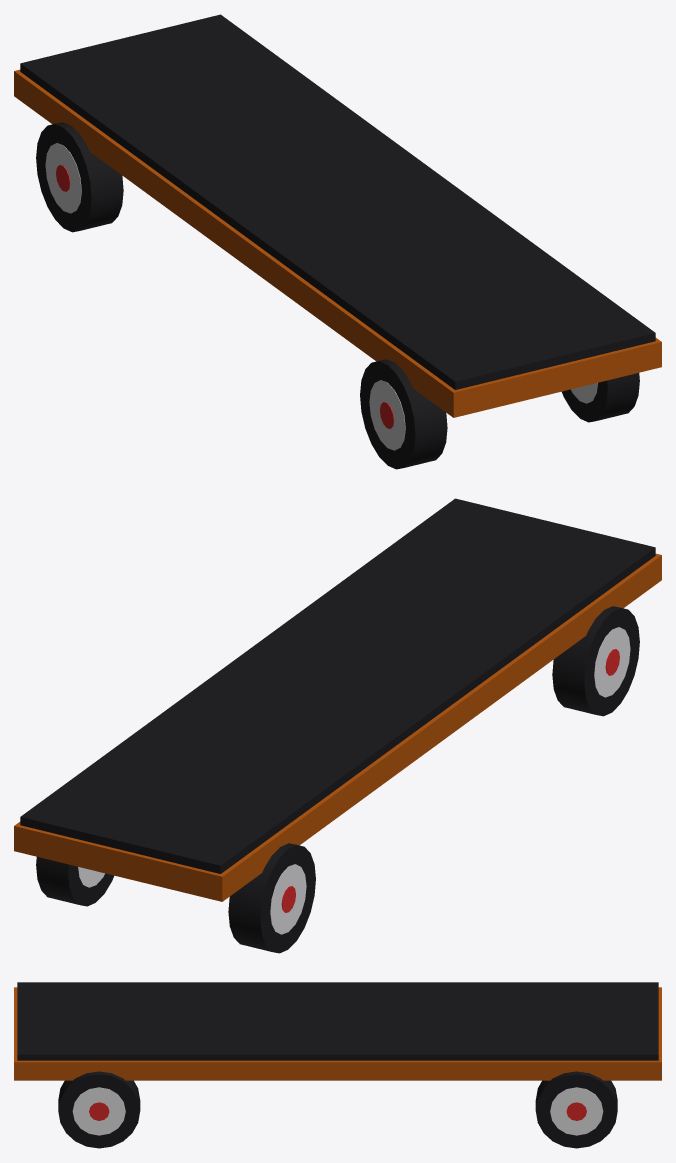
File: skateboard.glb
3 renders of one model, top to bottom at view 1: azimuth 30°, elevation 25°; view 2: azimuth 150°, elevation 25°; view 3: azimuth 270°, elevation 25°, orthographic. The views are drawn at different scales.
Size of the model in its own units: 0.2973 by 0.1526 by 1.
